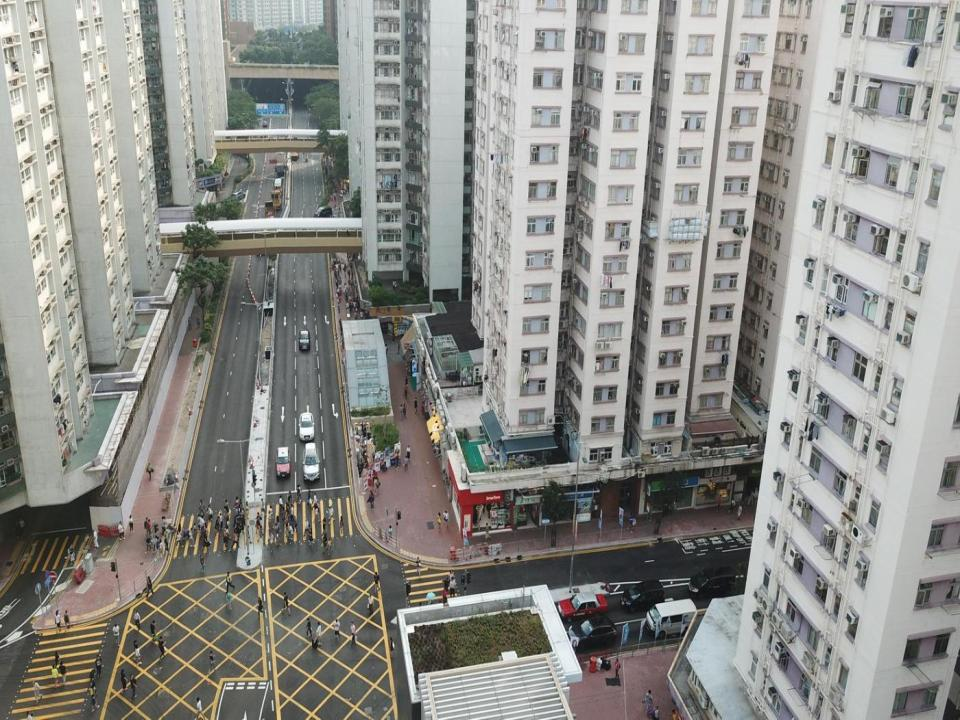car: (569, 615, 617, 651), (557, 591, 607, 622), (620, 580, 663, 613), (274, 447, 292, 478), (298, 412, 315, 440), (231, 191, 246, 201), (262, 121, 268, 127)
truck: (264, 201, 274, 231), (275, 144, 284, 168), (276, 162, 284, 175)
van: (646, 598, 697, 638), (689, 566, 735, 600), (302, 443, 320, 482), (298, 329, 310, 350), (314, 206, 332, 219), (274, 177, 283, 193)
